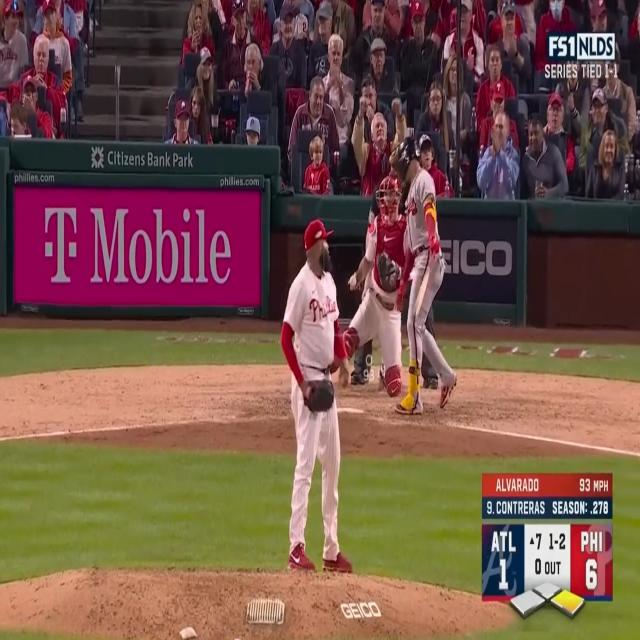baseball: (349, 272, 358, 288)
